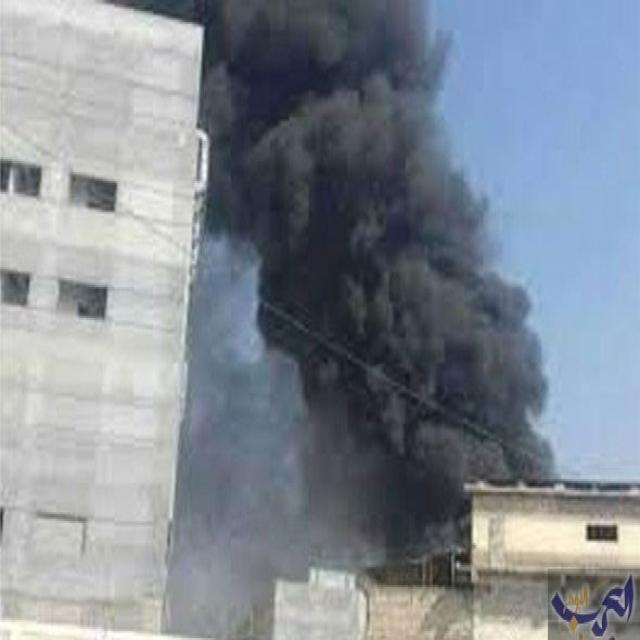Smoke: (196, 0, 574, 462)
